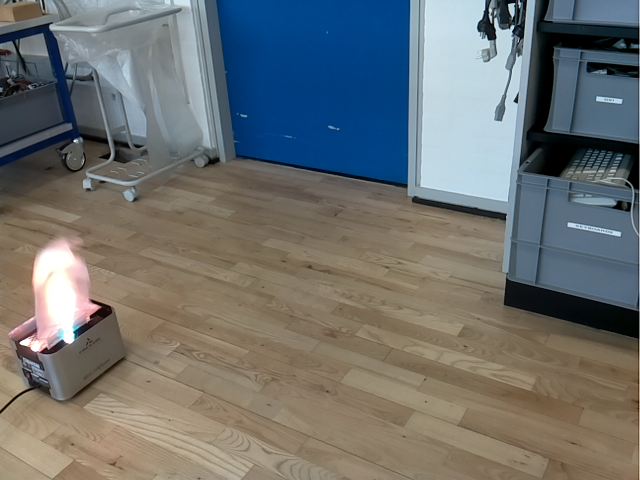fire: (32, 237, 102, 352)
